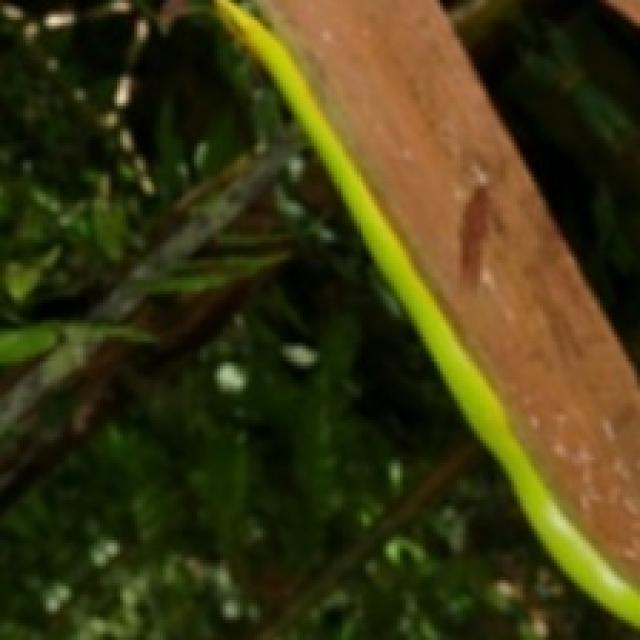red-tailed green ratsnake: (217, 0, 640, 624)
